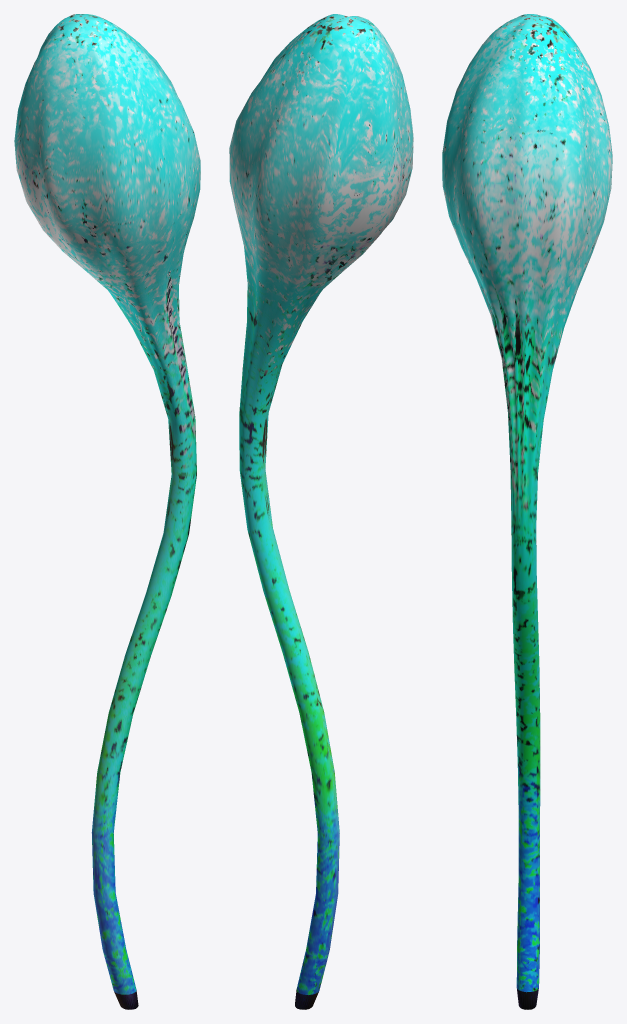
The model's file is sprooms_large.fbx.
3 renders of one model, left to right at view 1: azimuth 30°, elevation 25°; view 2: azimuth 150°, elevation 25°; view 3: azimuth 270°, elevation 25°, orthographic. The views are drawn at different scales.
Parts seen in each view (by area): view 1: sprooms.001; view 2: sprooms.001; view 3: sprooms.001.
Part boxes in pixels (x1,y1,x2,y2): sprooms.001: (14, 14, 200, 1009); sprooms.001: (229, 14, 413, 1009); sprooms.001: (442, 14, 612, 1009).
Size of the model in its own units: 6.96 by 40.1 by 6.39.
